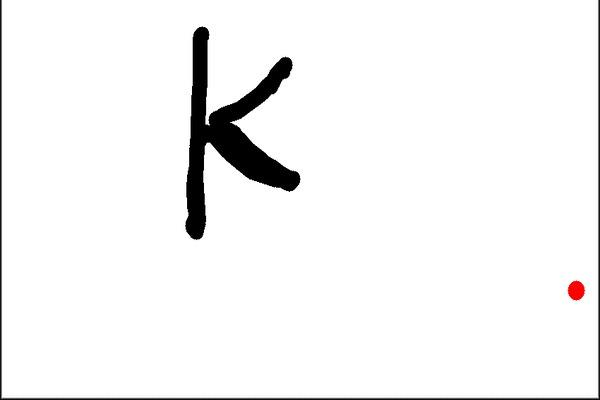K: (179, 13, 308, 246)
